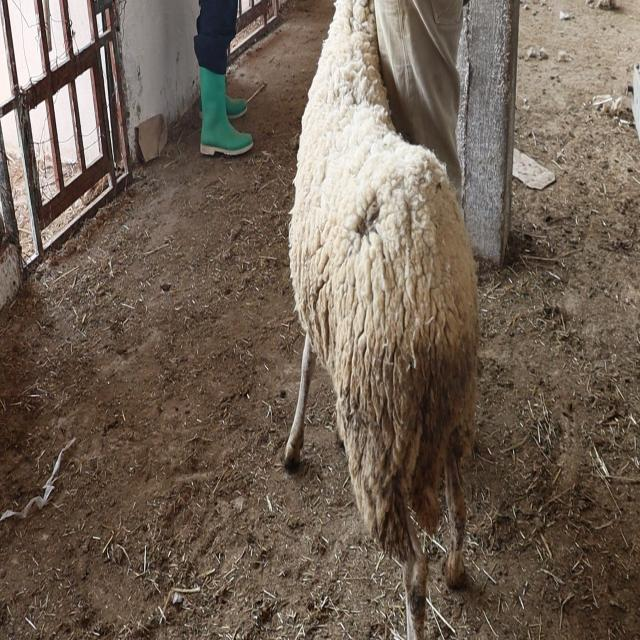Score_3: (285, 0, 479, 639)
